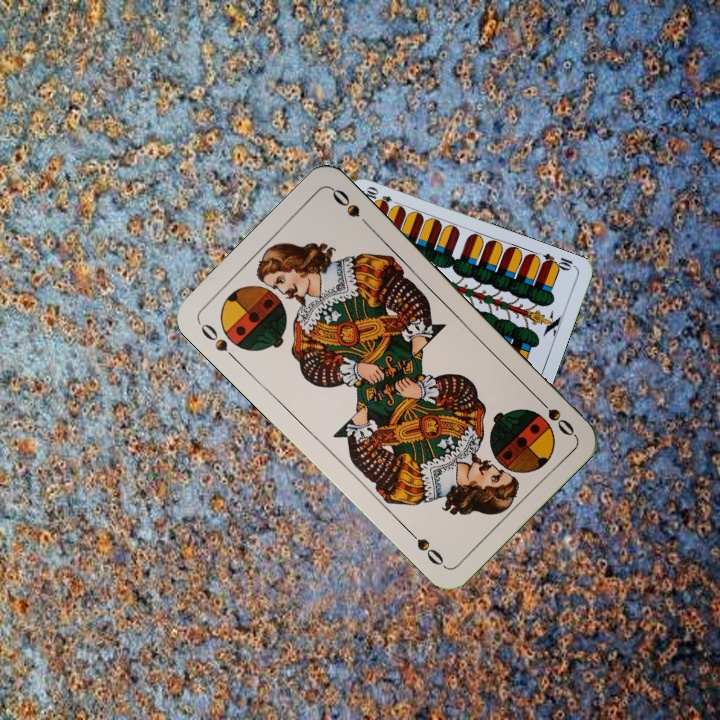E10: (538, 249, 579, 273)
SO: (194, 318, 241, 365), (531, 391, 577, 439)
